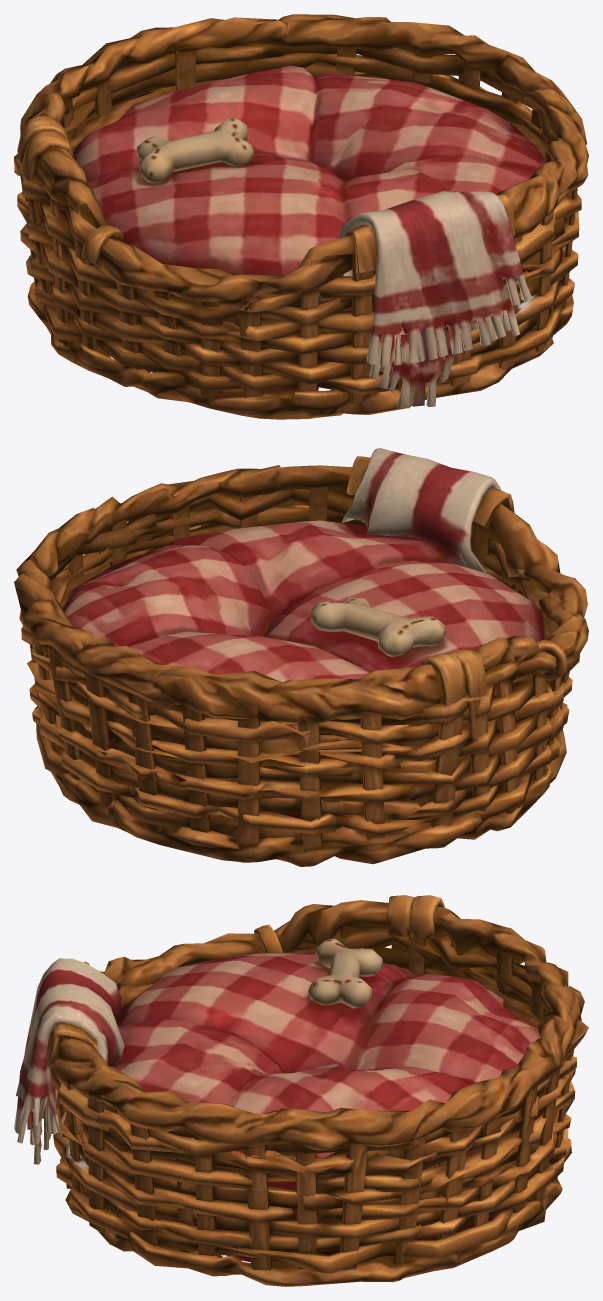
Rendered from enclos_panier.glb.
3 renders of one model, top to bottom at view 1: azimuth 30°, elevation 25°; view 2: azimuth 150°, elevation 25°; view 3: azimuth 270°, elevation 25°, orthographic. The views are drawn at different scales.
Parts seen in each view (by area): view 1: geometry_0; view 2: geometry_0; view 3: geometry_0.
Boxes of the visible parts, bbox=[...] form: geometry_0: bbox=[14, 14, 588, 419]; geometry_0: bbox=[14, 448, 588, 866]; geometry_0: bbox=[14, 895, 588, 1286].
Bounding box in the file's own units: 0.9146 × 0.3648 × 0.9521.
1 material, 1 textured.
